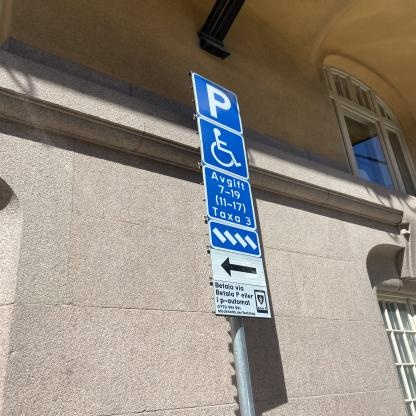P-skylt: (189, 71, 245, 134)
